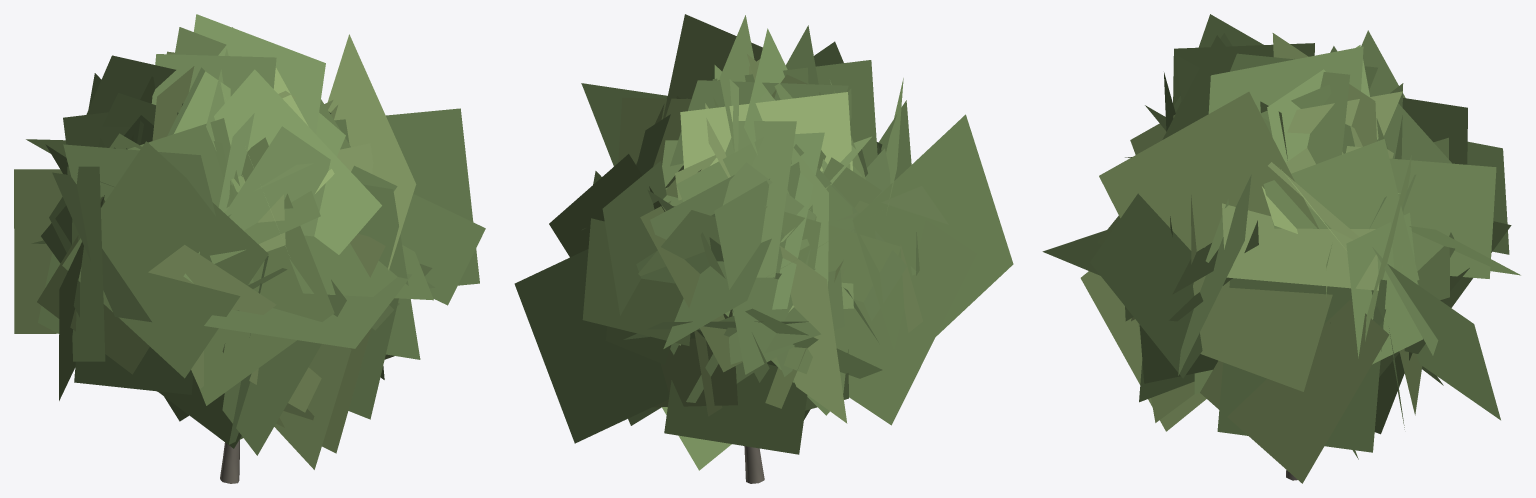
Rendered from ash_lod1.glb.
The picture shows the model from 3 angles, left to right: view 1: azimuth 30°, elevation 25°; view 2: azimuth 150°, elevation 25°; view 3: azimuth 270°, elevation 25°; orthographic projection. The views are drawn at different scales.
Parts seen in each view (by area): view 1: ash_lod1; view 2: ash_lod1; view 3: ash_lod1.
Part boxes in pixels (box(x1,y1,x2,y2)): ash_lod1: box(14, 14, 485, 483); ash_lod1: box(514, 14, 1013, 483); ash_lod1: box(1042, 14, 1520, 483).
Size of the model in its own units: 0.9516 by 1 by 1.
